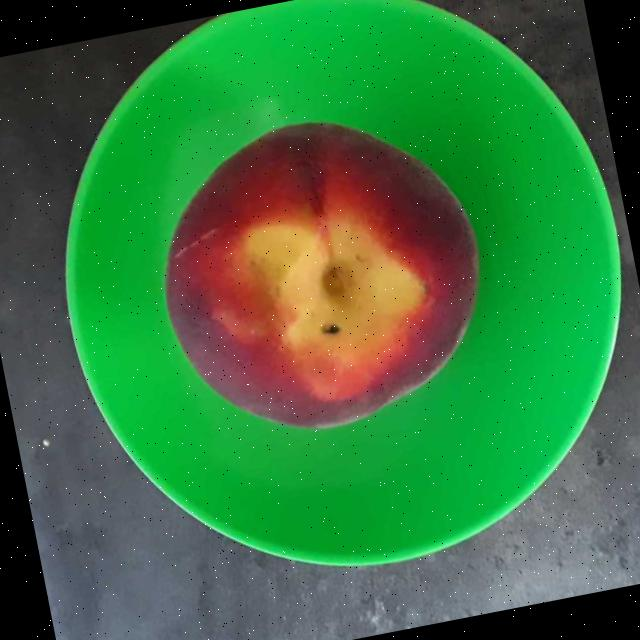peach: (169, 124, 475, 422)
